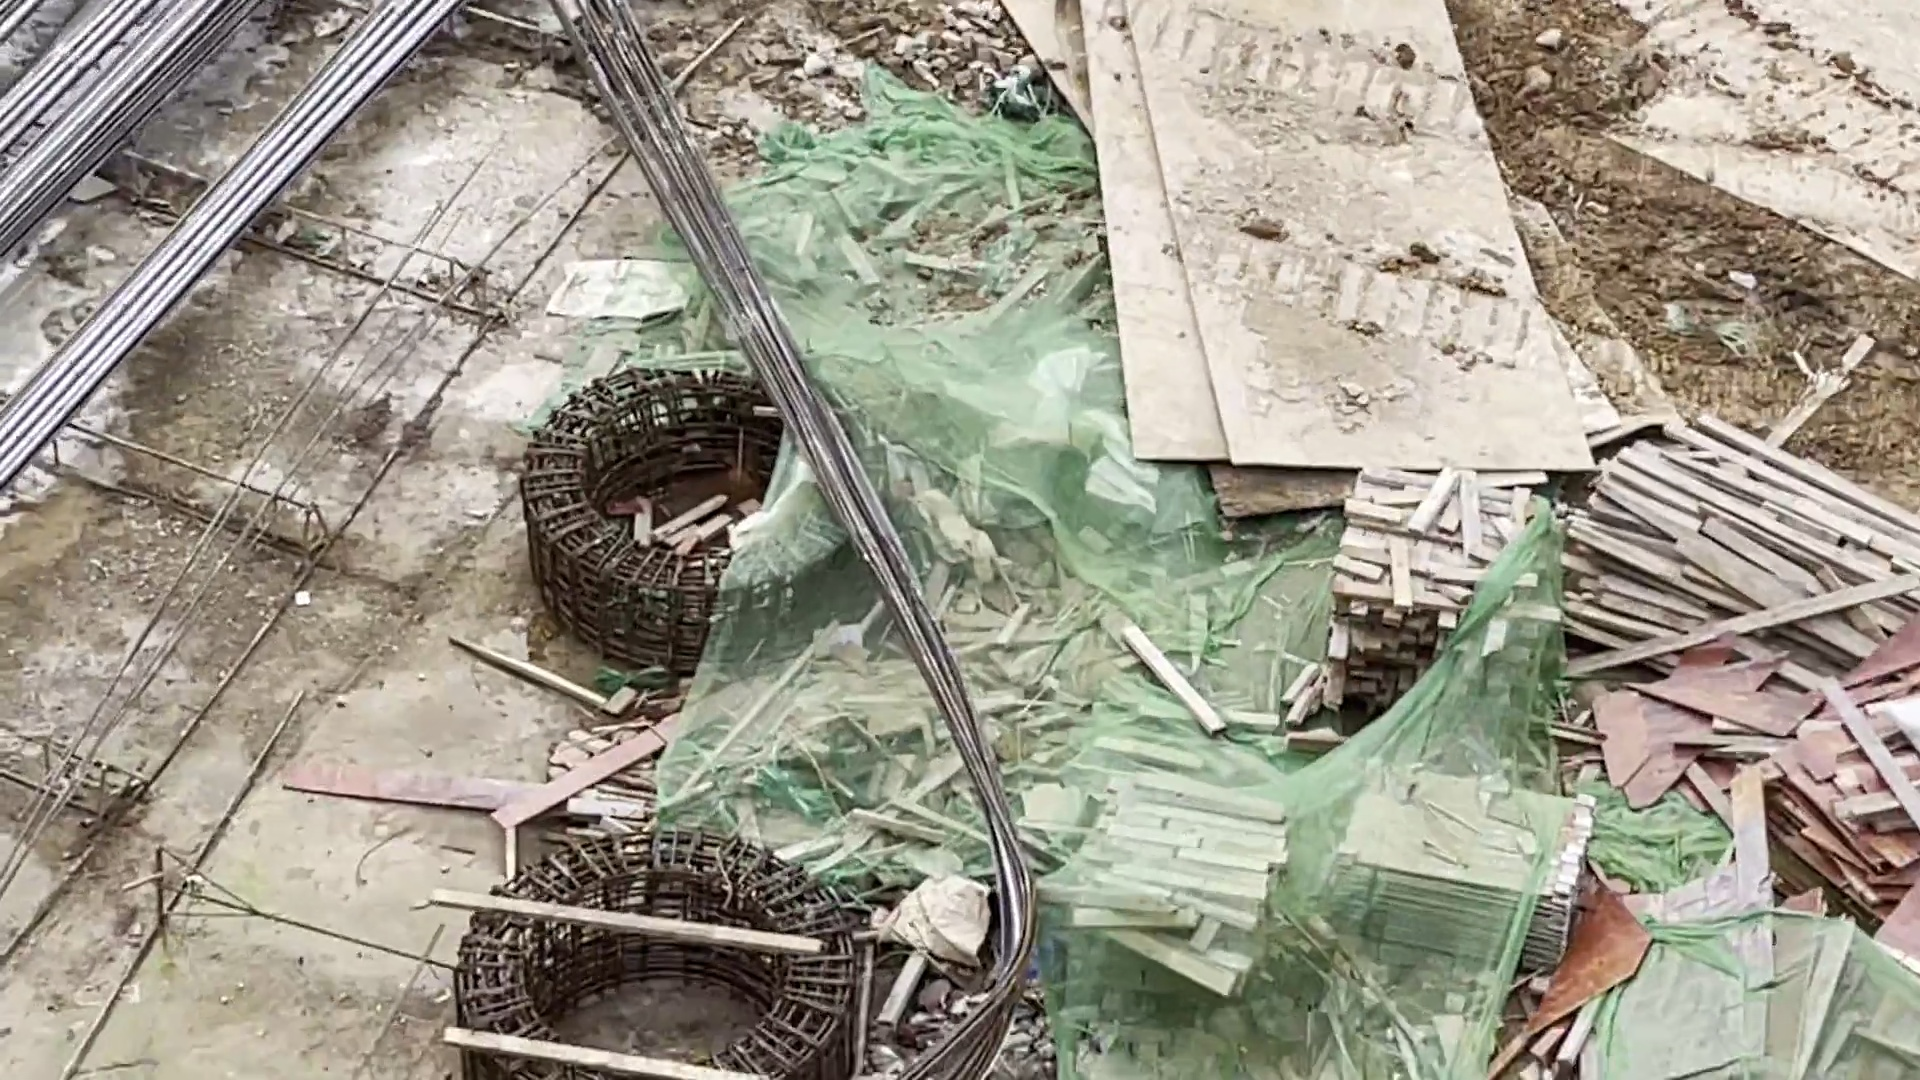board: (1350, 749, 1581, 957)
rebar: (566, 7, 1025, 1068), (1, 5, 517, 488)
wood: (1353, 481, 1506, 712), (1083, 793, 1242, 993)
